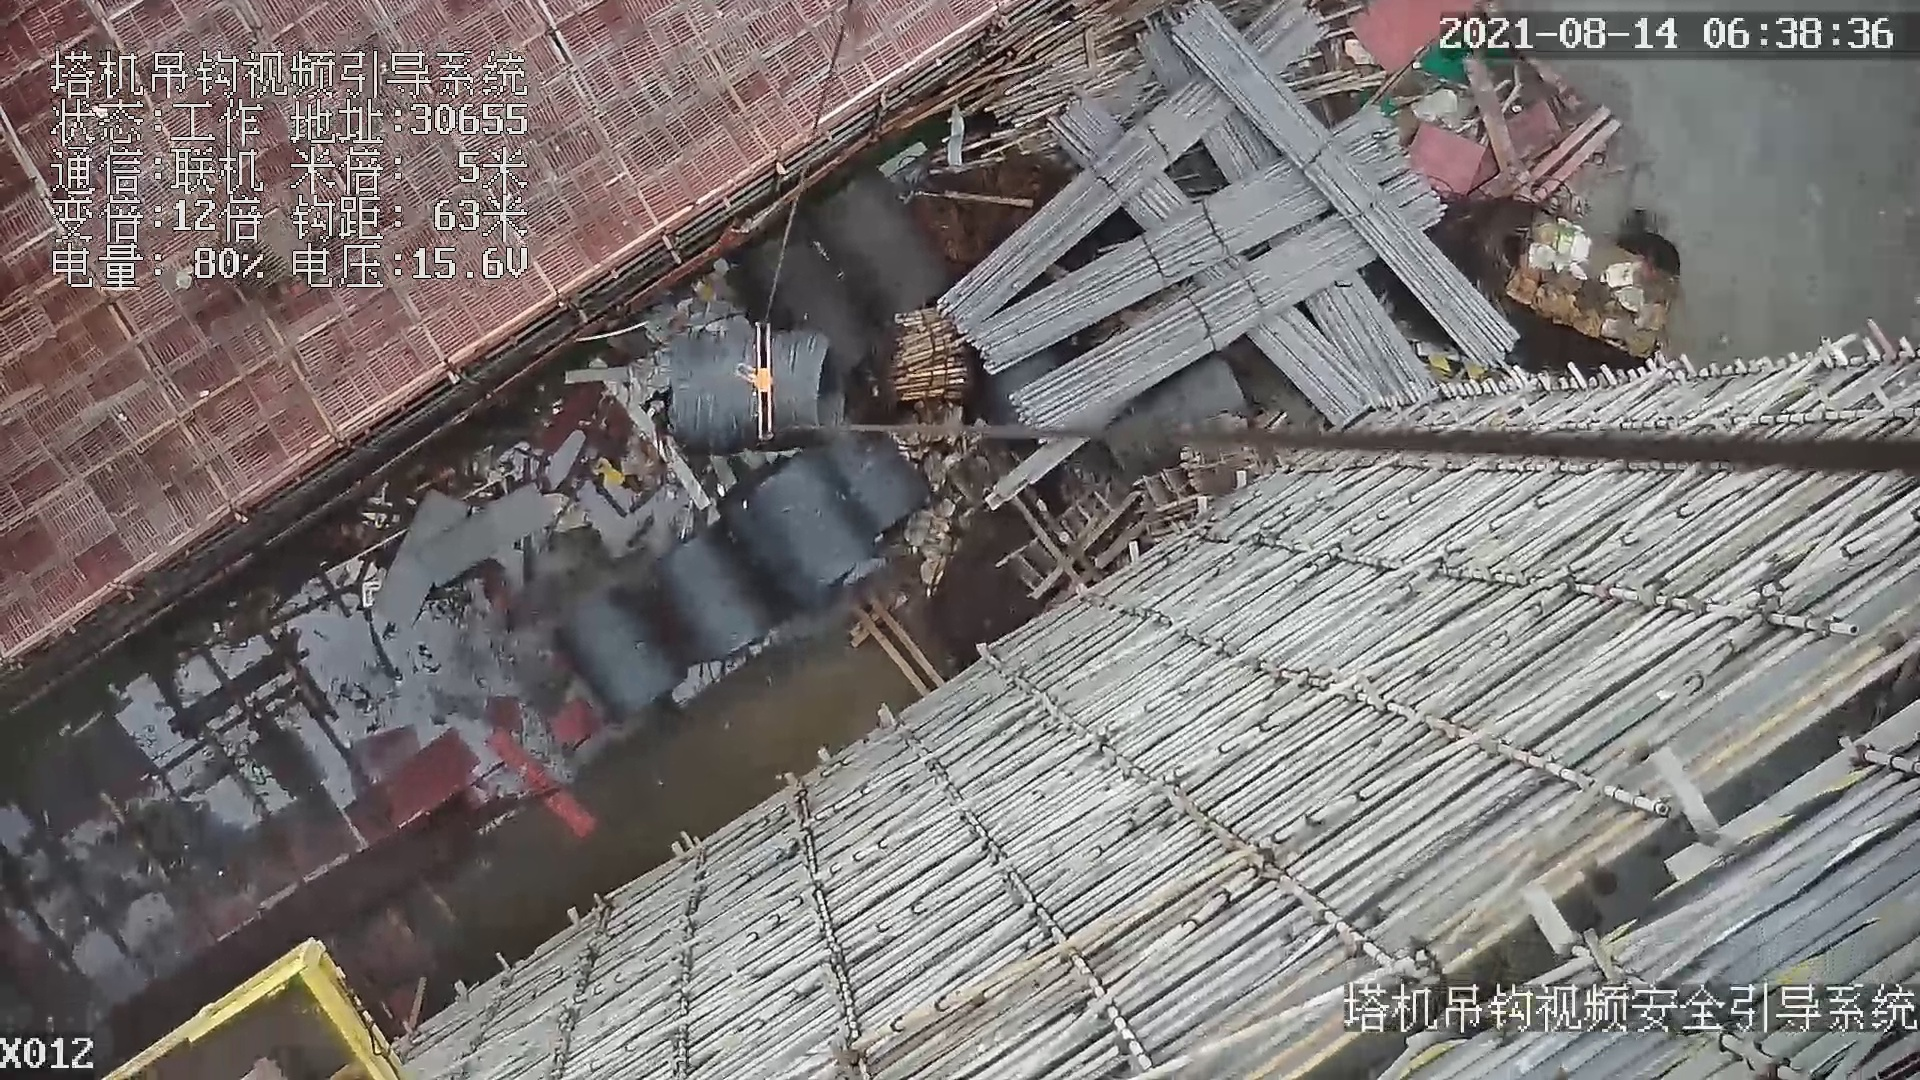hook: (729, 319, 779, 436)
